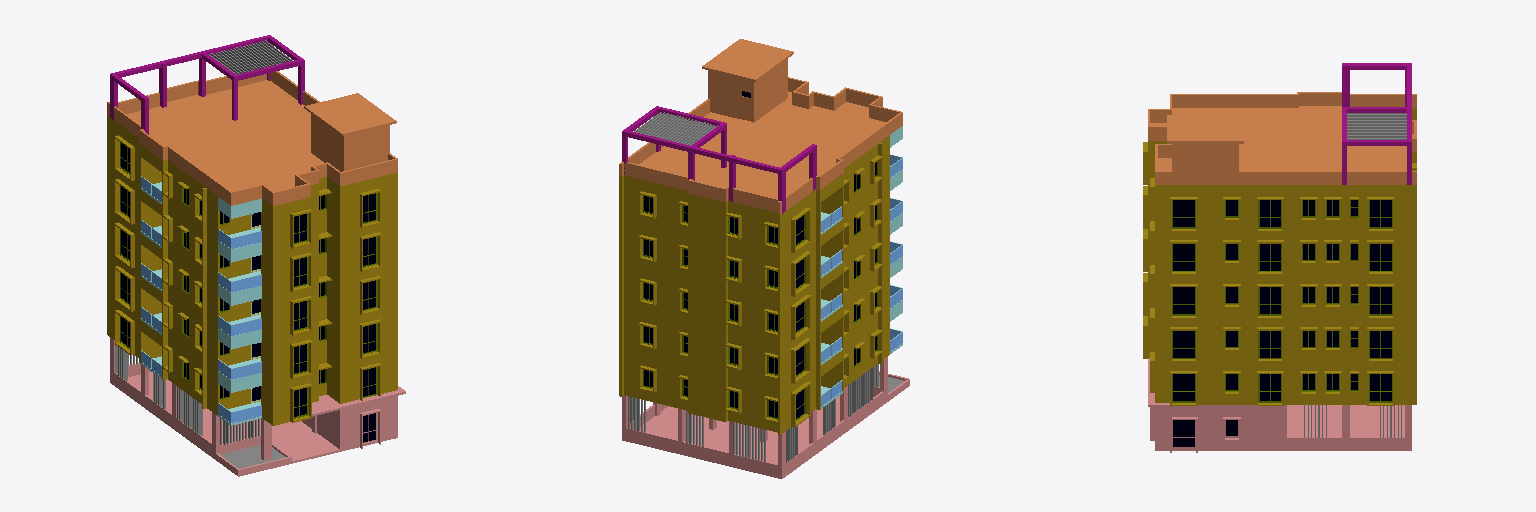
The model's file is Apartment_Building_26_obj.obj.
3 views of the same model, side by side, from view 1: azimuth 30°, elevation 25°; view 2: azimuth 150°, elevation 25°; view 3: azimuth 270°, elevation 25° (orthographic).
Parts seen in each view (by area): view 1: WALL, ROOF_1, GROUND_FLOOR_1, BALCONY, WINDOW, LOUVER, DOOR; view 2: WALL, ROOF_1, GROUND_FLOOR_1, LOUVER, WINDOW, BALCONY; view 3: WALL, ROOF_1, WINDOW, GROUND_FLOOR_1, LOUVER, GROUND_FLOOR_2.
Boxes of the visible parts, <box> form: WALL: <box>107,116,397,425</box>; ROOF_1: <box>107,71,397,205</box>; GROUND_FLOOR_1: <box>110,338,405,476</box>; BALCONY: <box>141,176,261,425</box>; WINDOW: <box>120,142,377,418</box>; LOUVER: <box>110,35,304,445</box>; DOOR: <box>251,212,260,402</box>; WALL: <box>619,135,889,435</box>; ROOF_1: <box>619,39,902,215</box>; GROUND_FLOOR_1: <box>622,357,909,478</box>; LOUVER: <box>622,106,878,462</box>; WINDOW: <box>643,161,877,420</box>; BALCONY: <box>821,126,902,408</box>; WALL: <box>1143,108,1416,406</box>; ROOF_1: <box>1148,92,1416,184</box>; WINDOW: <box>1172,200,1392,402</box>; GROUND_FLOOR_1: <box>1148,358,1411,452</box>; LOUVER: <box>1304,63,1411,437</box>; GROUND_FLOOR_2: <box>1172,420,1238,448</box>.
Bounding box in the file's own units: 486 × 858 × 684.